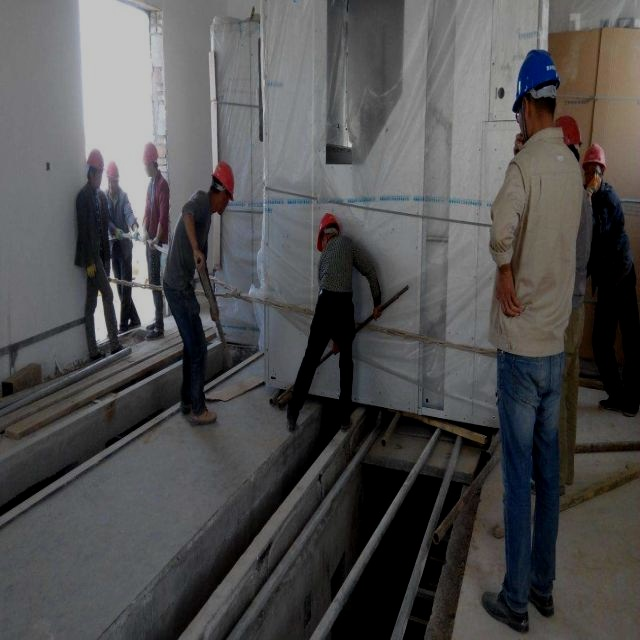Con_Casco: (510, 47, 561, 138)
Sin_Chaleco: (490, 140, 582, 352)
